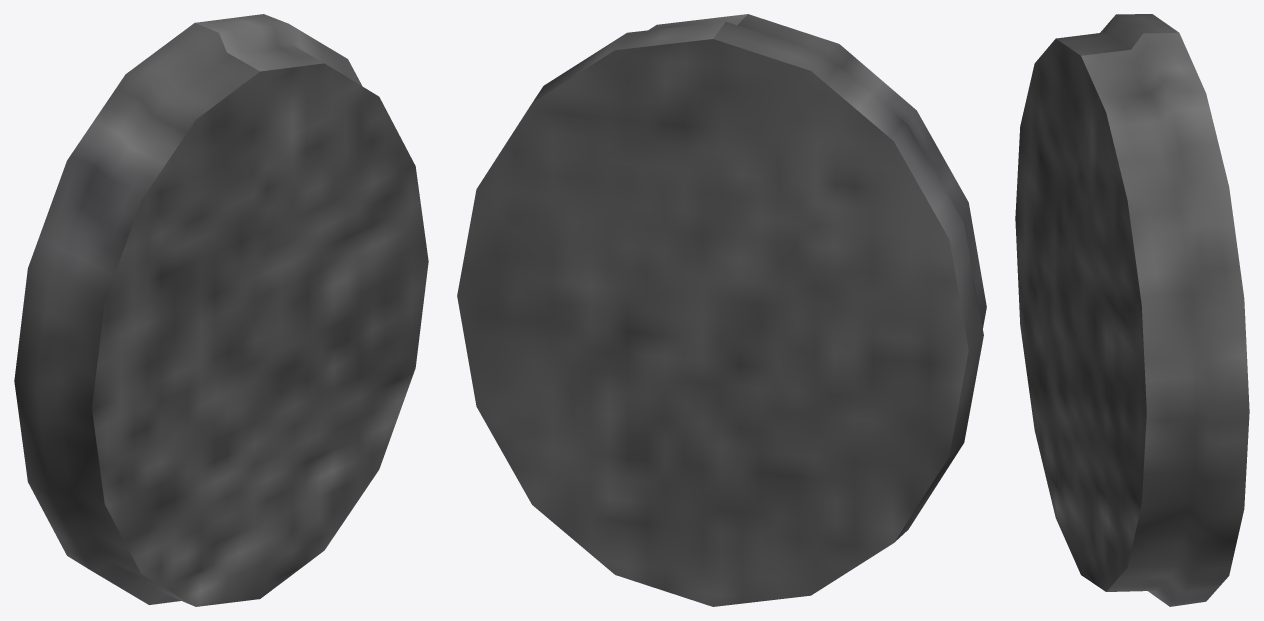
The model's file is LlantaDer7.obj.
3 renders of one model, left to right at view 1: azimuth 30°, elevation 25°; view 2: azimuth 150°, elevation 25°; view 3: azimuth 270°, elevation 25°, orthographic. The views are drawn at different scales.
Visible parts, largest first — view 1: LlantaDer7; view 2: LlantaDer7; view 3: LlantaDer7.
Part boxes in pixels (left/top/right/bottom): LlantaDer7: left=14, top=14, right=428, bottom=606; LlantaDer7: left=457, top=14, right=986, bottom=606; LlantaDer7: left=1015, top=14, right=1249, bottom=606.
Bounding box in the file's own units: 0.218 × 0.2666 × 0.1021.
Materials: 1 (1 with a texture image).
